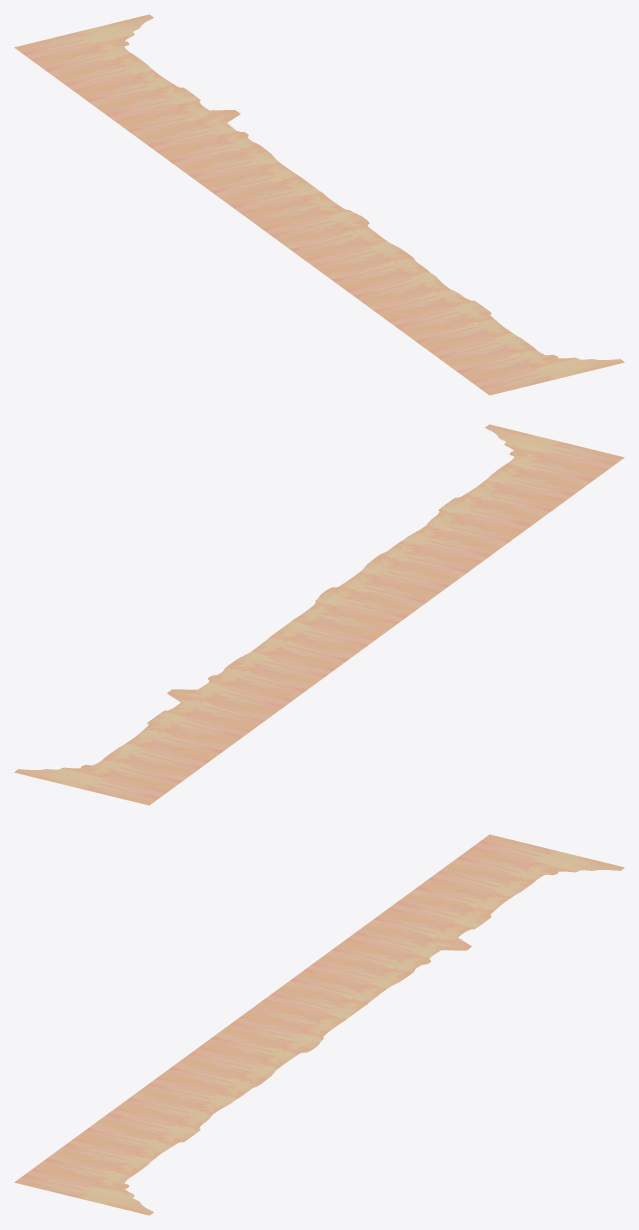
The model's file is Mesh_Adventure_Canyon_Variant_Ground.fbx.
3 renders of one model, top to bottom at view 1: azimuth 30°, elevation 25°; view 2: azimuth 150°, elevation 25°; view 3: azimuth 330°, elevation 25°, orthographic.
Visible parts, largest first — view 1: Mesh_Adventure_Canyon_Variant_Ground; view 2: Mesh_Adventure_Canyon_Variant_Ground; view 3: Mesh_Adventure_Canyon_Variant_Ground.
Boxes of the visible parts, bbox=[...] form: Mesh_Adventure_Canyon_Variant_Ground: bbox=[14, 14, 624, 395]; Mesh_Adventure_Canyon_Variant_Ground: bbox=[14, 424, 624, 805]; Mesh_Adventure_Canyon_Variant_Ground: bbox=[14, 834, 624, 1215].
Size of the model in its own units: 1153 by 0.000851 by 7000.
